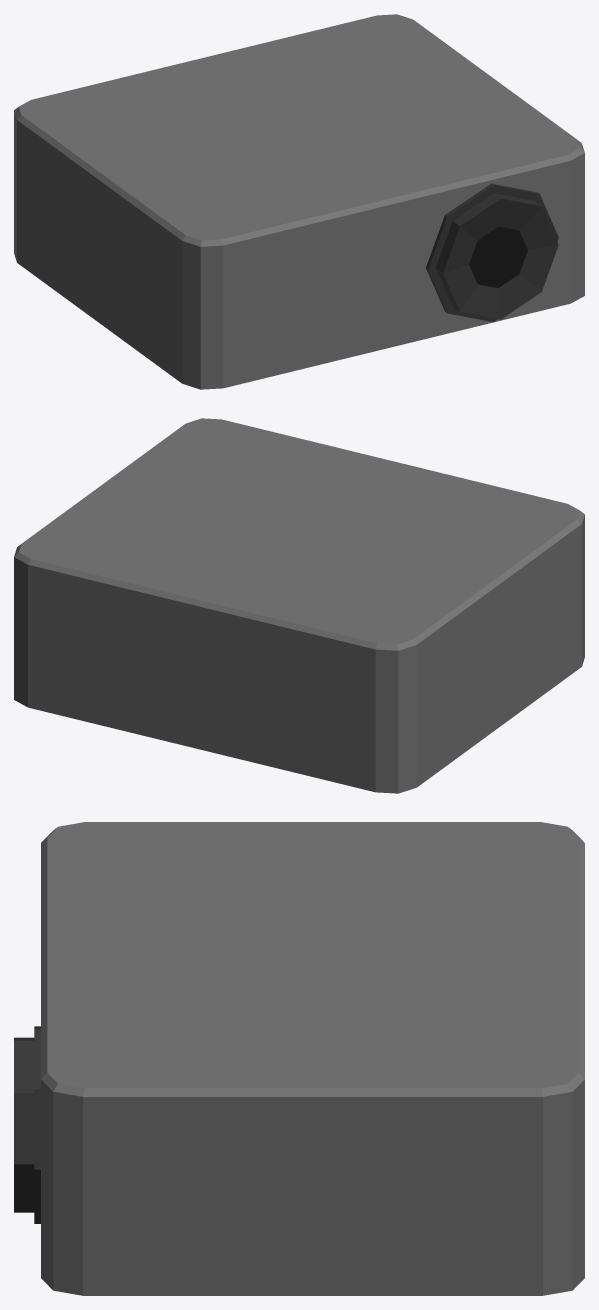
The model's file is Projector.fbx.
3 views of the same model, one above another, from view 1: azimuth 30°, elevation 25°; view 2: azimuth 150°, elevation 25°; view 3: azimuth 270°, elevation 25° (orthographic). The views are drawn at different scales.
Visible parts, largest first — view 1: Cube.002; view 2: Cube.002; view 3: Cube.002.
Boxes of the visible parts, box(x1,y1,x2,y2) form: Cube.002: box(14, 14, 584, 389); Cube.002: box(14, 418, 584, 793); Cube.002: box(14, 822, 584, 1295).
Bounding box in the file's own units: 41.89 × 14.73 × 37.21.
